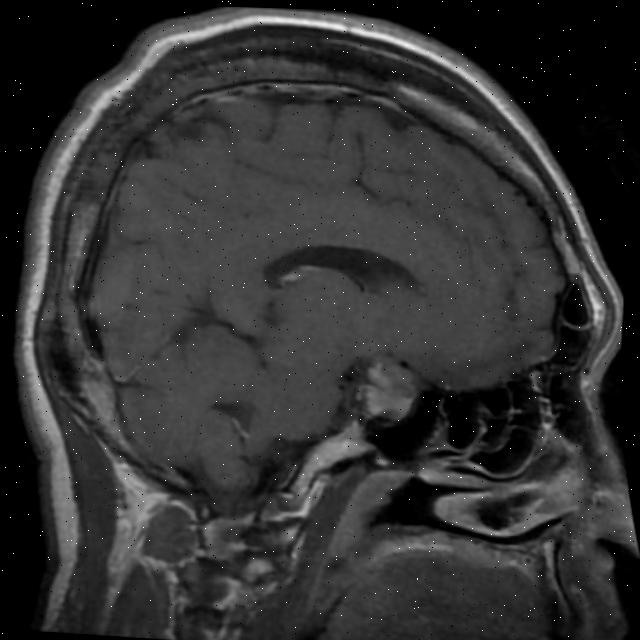Pituitary: (355, 360, 417, 422)
